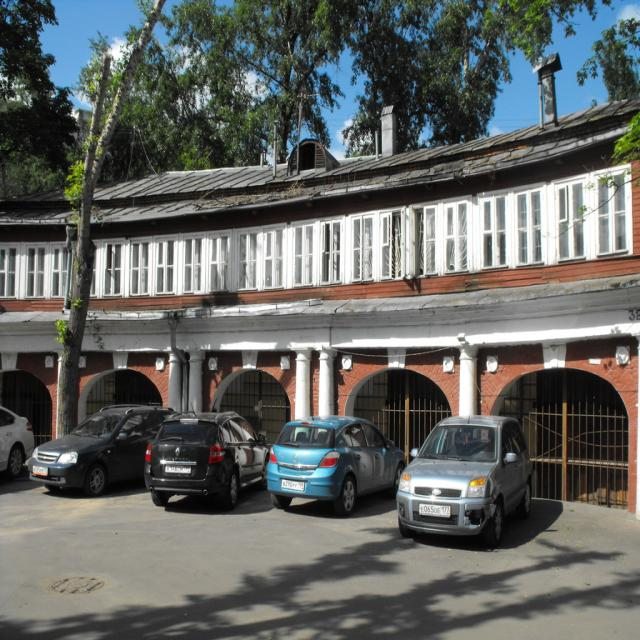car: (394, 394, 531, 545)
